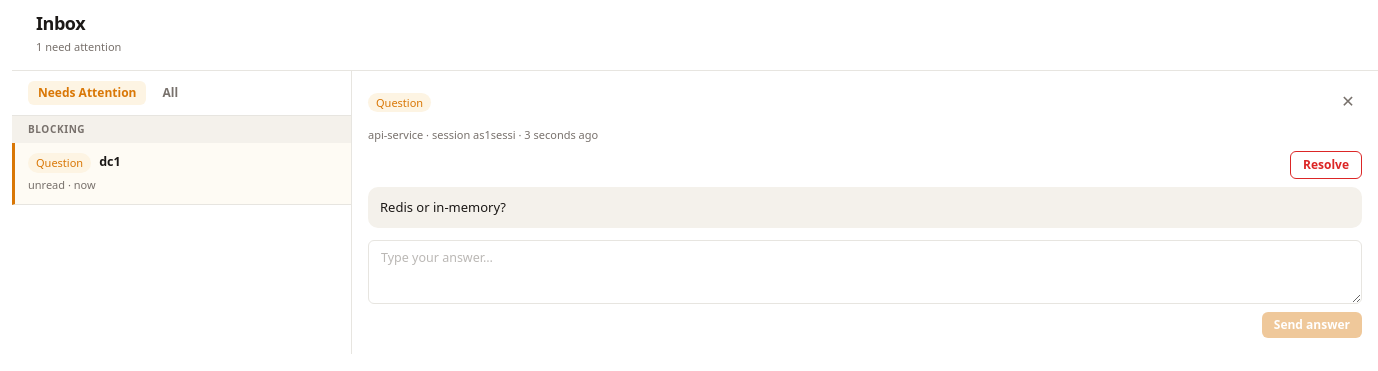
it: Inbox intervention actions › shows the stale note when the question is no longer actionable
expect the text "Redis or in-memory?" is shown: met, box [368,187,1362,228]
Type "Use Redis" into the text box with placeholder "Type your answer…" at {"x": 865, "y": 272}, box [368,240,1362,304]
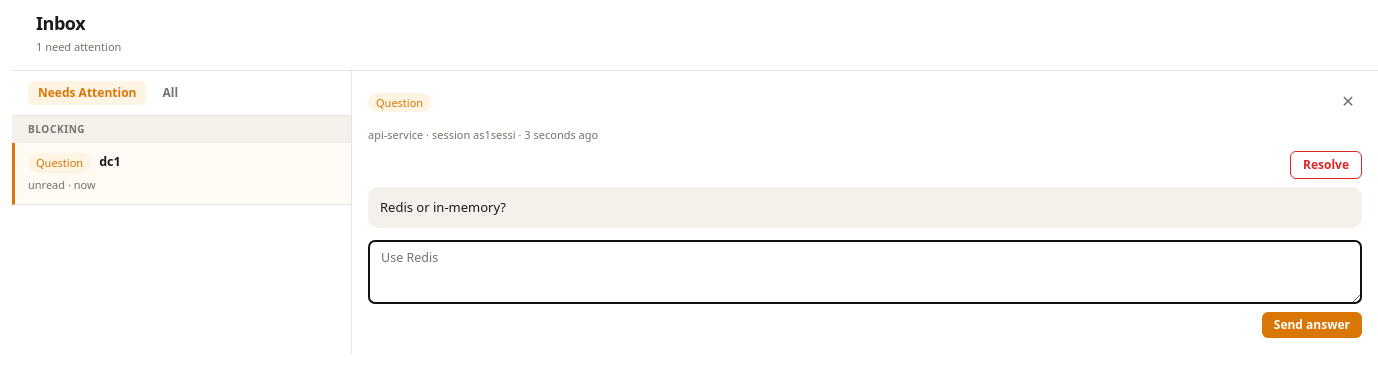
Click the button "Send answer" at {"x": 1312, "y": 325}, box [1262,312,1362,338]
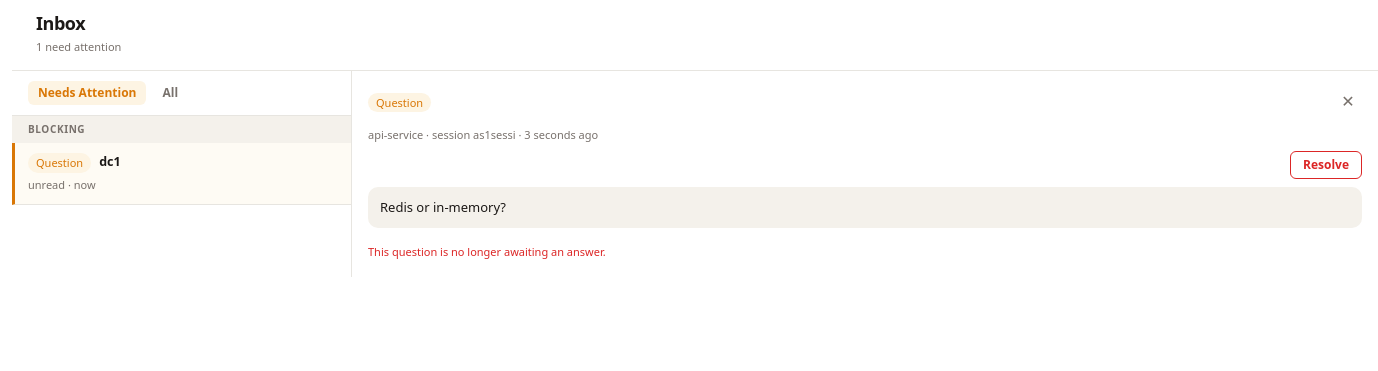
expect the text "This question is no longer awaiting an answer." is shown: met, box [368,244,606,259]
